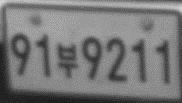1: (130, 38, 149, 82), (34, 33, 51, 78), (155, 39, 172, 83)
2: (105, 36, 128, 83)
9: (9, 32, 32, 76), (81, 35, 102, 80)
부: (54, 40, 79, 79)
